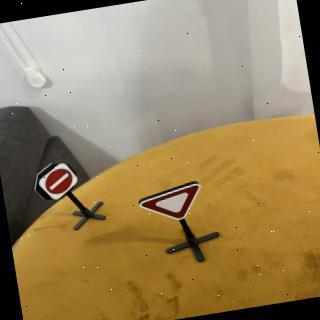sign_noentry: (36, 161, 83, 204)
sign_yield: (138, 182, 209, 228)
